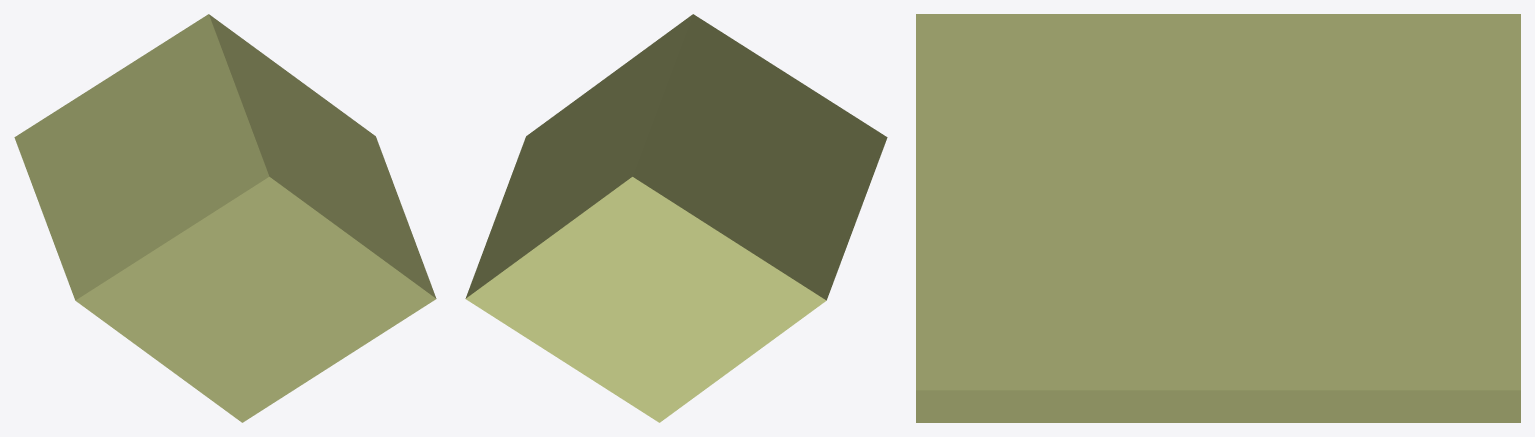
The picture shows the model from 3 angles, left to right: view 1: azimuth 30°, elevation 25°; view 2: azimuth 150°, elevation 25°; view 3: azimuth 270°, elevation 25°; orthographic projection. The views are drawn at different scales.
Visible parts, largest first — view 1: 0_0_1_2_0_0_3_0_3_1_3; view 2: 0_0_1_2_0_0_3_0_3_1_3; view 3: 0_0_1_2_0_0_3_0_3_1_3.
Part boxes in pixels (bbox=[...]): 0_0_1_2_0_0_3_0_3_1_3: bbox=[14, 14, 436, 422]; 0_0_1_2_0_0_3_0_3_1_3: bbox=[465, 14, 887, 422]; 0_0_1_2_0_0_3_0_3_1_3: bbox=[916, 14, 1520, 422].
Bounding box in the file's own units: 7.93 × 7.55 × 9.
